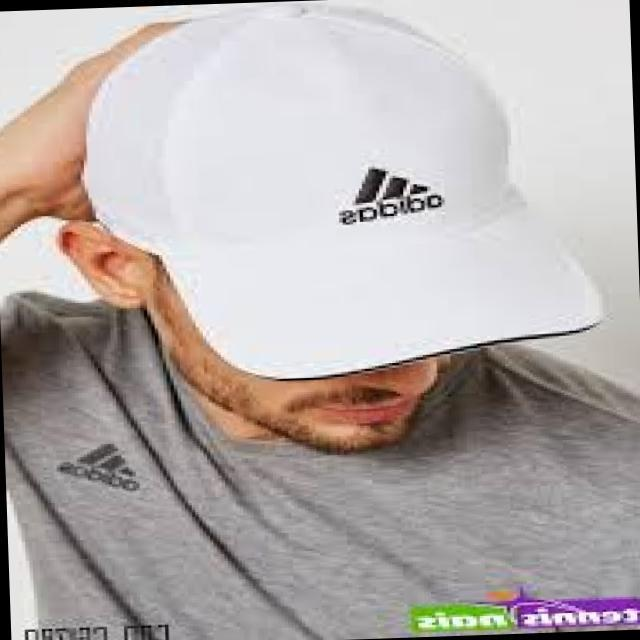cap: (26, 0, 612, 424)
